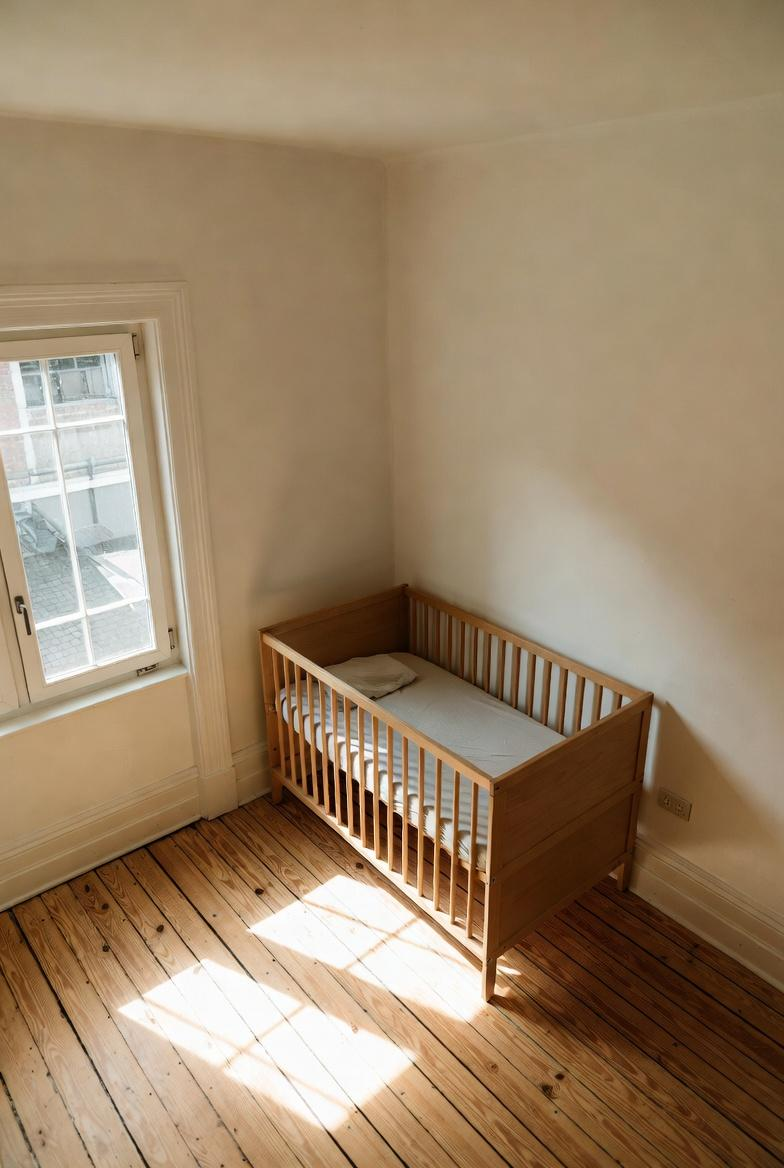crib: (237, 570, 675, 1007)
